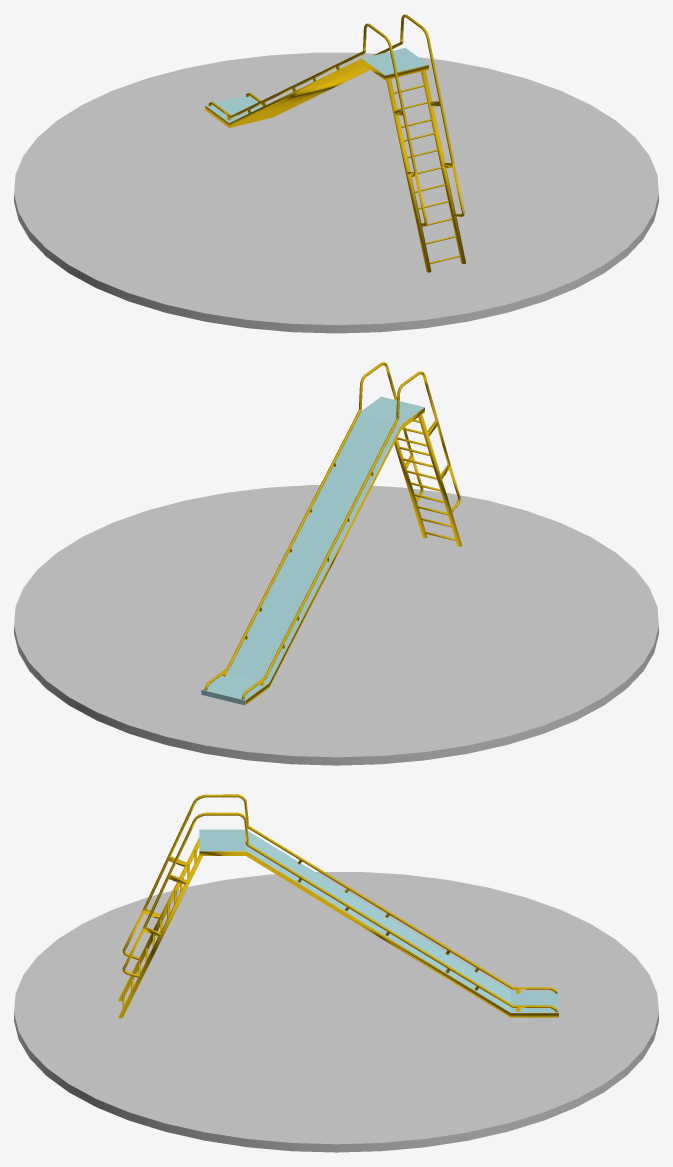
Rendered from gorka.gltf.
The picture shows the model from 3 angles, top to bottom: view 1: azimuth 30°, elevation 25°; view 2: azimuth 150°, elevation 25°; view 3: azimuth 270°, elevation 25°; orthographic projection.
Parts seen in each view (by area): view 1: Cylinder001, ZOOLA SLIDE.001, SLIDE; view 2: Cylinder001, SLIDE, ZOOLA SLIDE.001; view 3: Cylinder001, ZOOLA SLIDE.001, SLIDE.
Part boxes in pixels (box(x1,y1,x2,y2)): Cylinder001: box(14, 52, 658, 333); ZOOLA SLIDE.001: box(205, 14, 465, 272); SLIDE: box(205, 47, 428, 122); Cylinder001: box(14, 485, 658, 765); SLIDE: box(201, 396, 424, 705); ZOOLA SLIDE.001: box(204, 362, 462, 704); Cylinder001: box(14, 872, 658, 1152); ZOOLA SLIDE.001: box(118, 794, 558, 1018); SLIDE: box(199, 829, 558, 1012).
Size of the model in its own units: 140 by 51.23 by 140.
